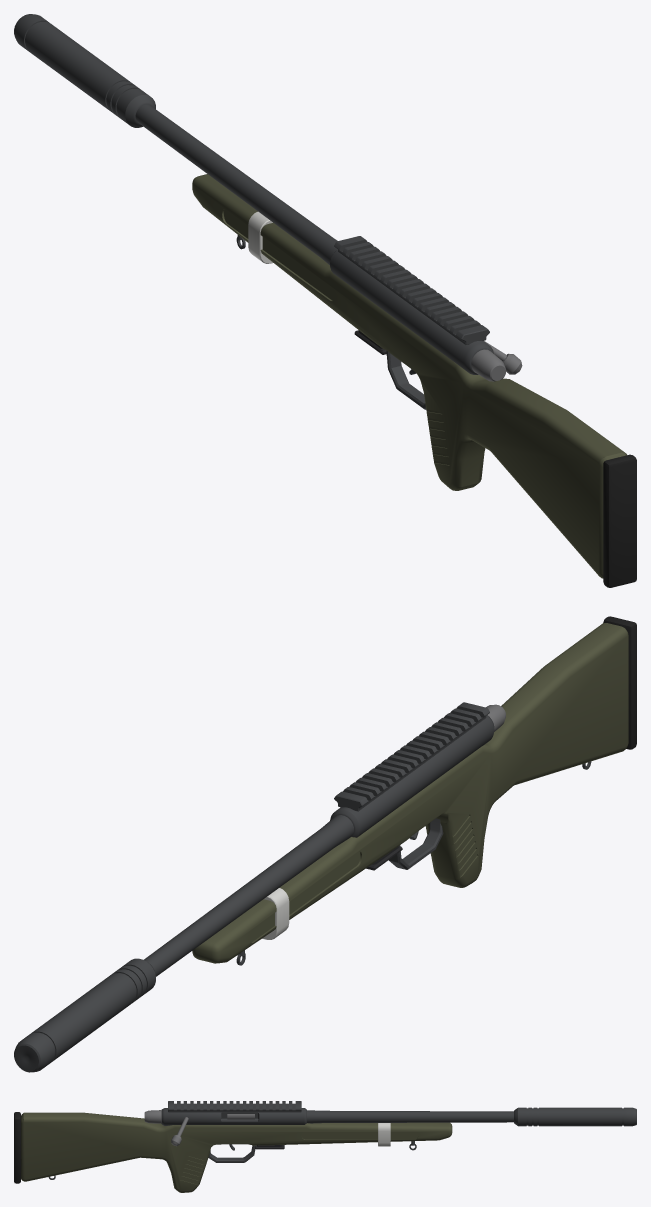
File: VSR.glb
3 renders of one model, top to bottom at view 1: azimuth 30°, elevation 25°; view 2: azimuth 150°, elevation 25°; view 3: azimuth 270°, elevation 25°, orthographic. The views are drawn at different scales.
Visible parts, largest first — view 1: Body, Metal, Furniture, Bolt; view 2: Body, Metal, Furniture, Tape; view 3: Body, Metal, Bolt, Furniture, Tape.
Part boxes in pixels (x1,y1,x2,y2): Body: (192,174,626,578); Metal: (14,14,493,409); Furniture: (603,454,636,587); Bolt: (471,341,522,381); Body: (192,623,628,963); Metal: (14,702,591,1072); Furniture: (603,616,636,749); Tape: (262,888,289,939); Body: (21,1112,452,1192); Metal: (48,1101,636,1179); Bolt: (144,1110,254,1146); Furniture: (14,1112,20,1183); Tape: (378,1123,390,1146).
Size of the model in its own units: 0.3856 by 0.9022 by 5.87.
